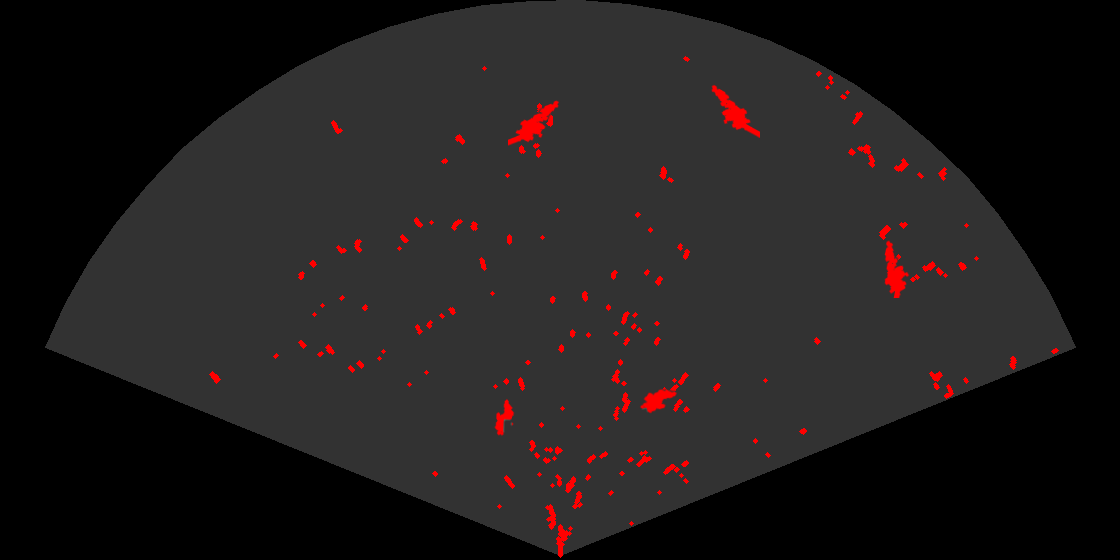AUV: (638, 387, 679, 415), (493, 397, 516, 438)
frogman: (710, 83, 760, 138), (508, 99, 561, 147), (883, 238, 911, 298)
